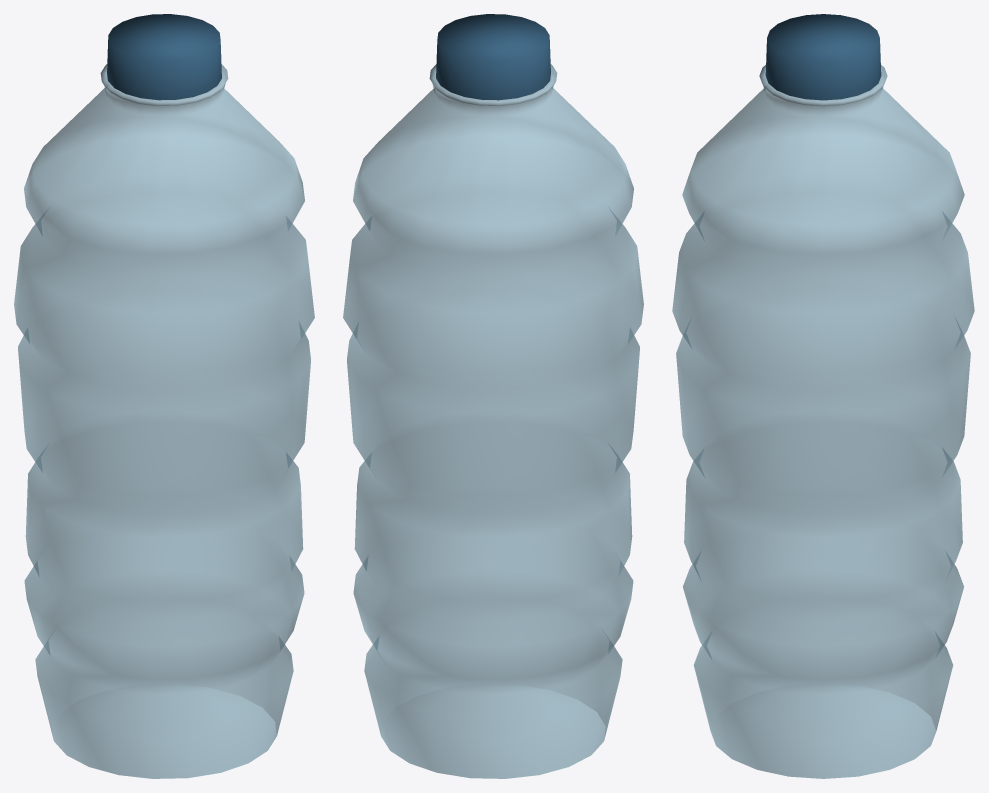
Rendered from PlasticBottle.fbx.
The picture shows the model from 3 angles, left to right: view 1: azimuth 30°, elevation 25°; view 2: azimuth 150°, elevation 25°; view 3: azimuth 270°, elevation 25°; orthographic projection.
Parts seen in each view (by area): view 1: pCylinder1; view 2: pCylinder1; view 3: pCylinder1.
Boxes of the visible parts, left/top/right/bottom form: pCylinder1: left=14, top=14, right=314, bottom=778; pCylinder1: left=343, top=14, right=643, bottom=778; pCylinder1: left=672, top=14, right=974, bottom=778.
Bounding box in the file's own units: 2.44 × 6.16 × 2.44.
